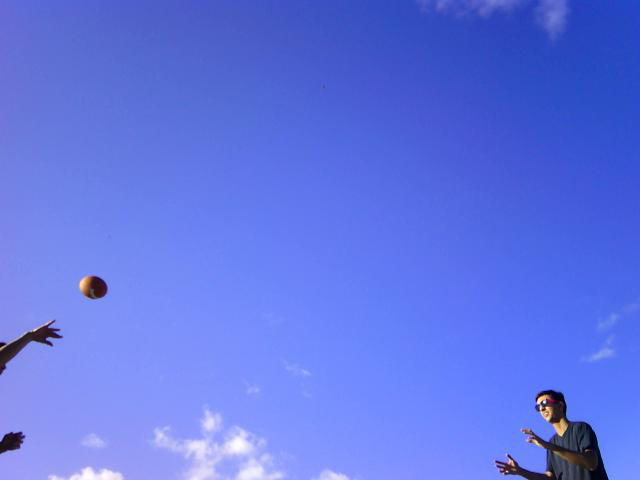football: (75, 273, 109, 305)
